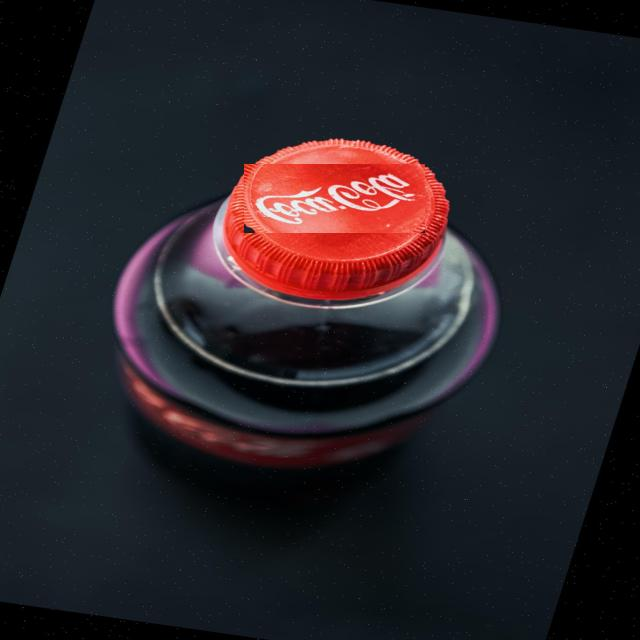coca-cola: (244, 164, 425, 233)
